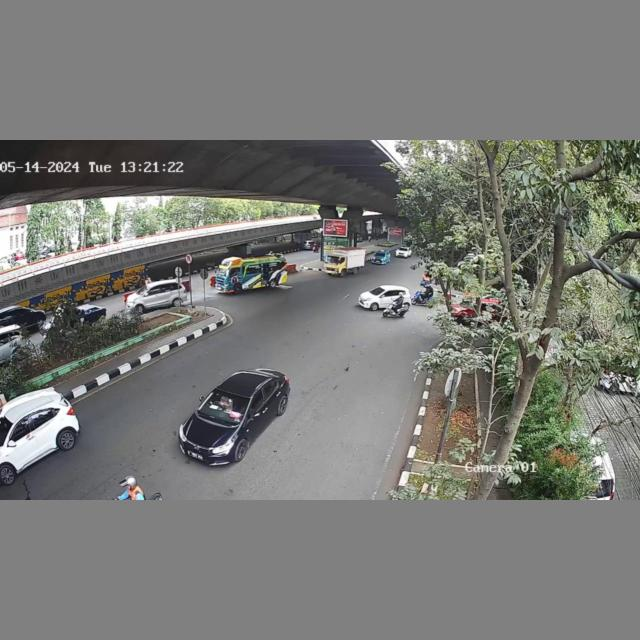windshield: (196, 390, 249, 425)
